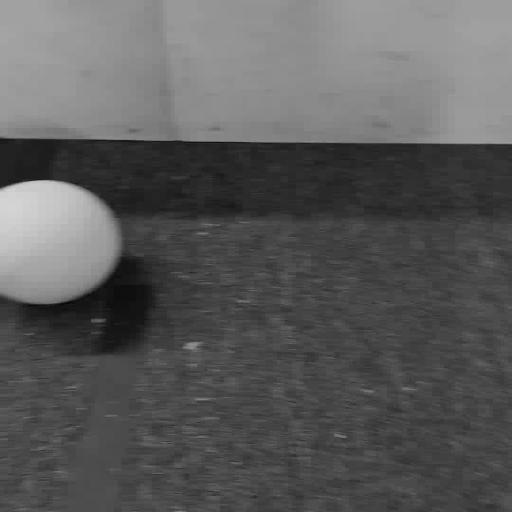fuel: (0, 180, 122, 304)
